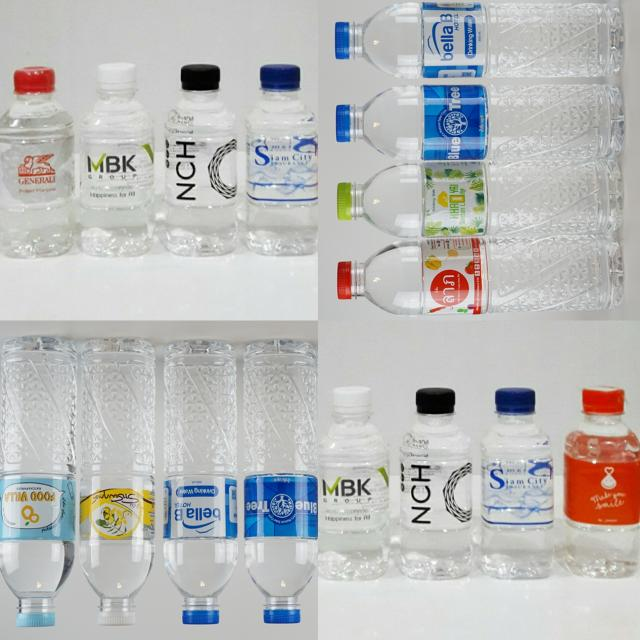plastik: (337, 233, 624, 315), (0, 336, 77, 626), (337, 159, 623, 237), (336, 84, 625, 161), (334, 2, 624, 78), (79, 338, 155, 625), (164, 339, 238, 624), (245, 339, 318, 624), (80, 63, 155, 257), (564, 387, 640, 576), (0, 66, 74, 258), (318, 386, 390, 580), (400, 387, 472, 580), (246, 64, 318, 255), (481, 387, 553, 578), (165, 64, 236, 256)
